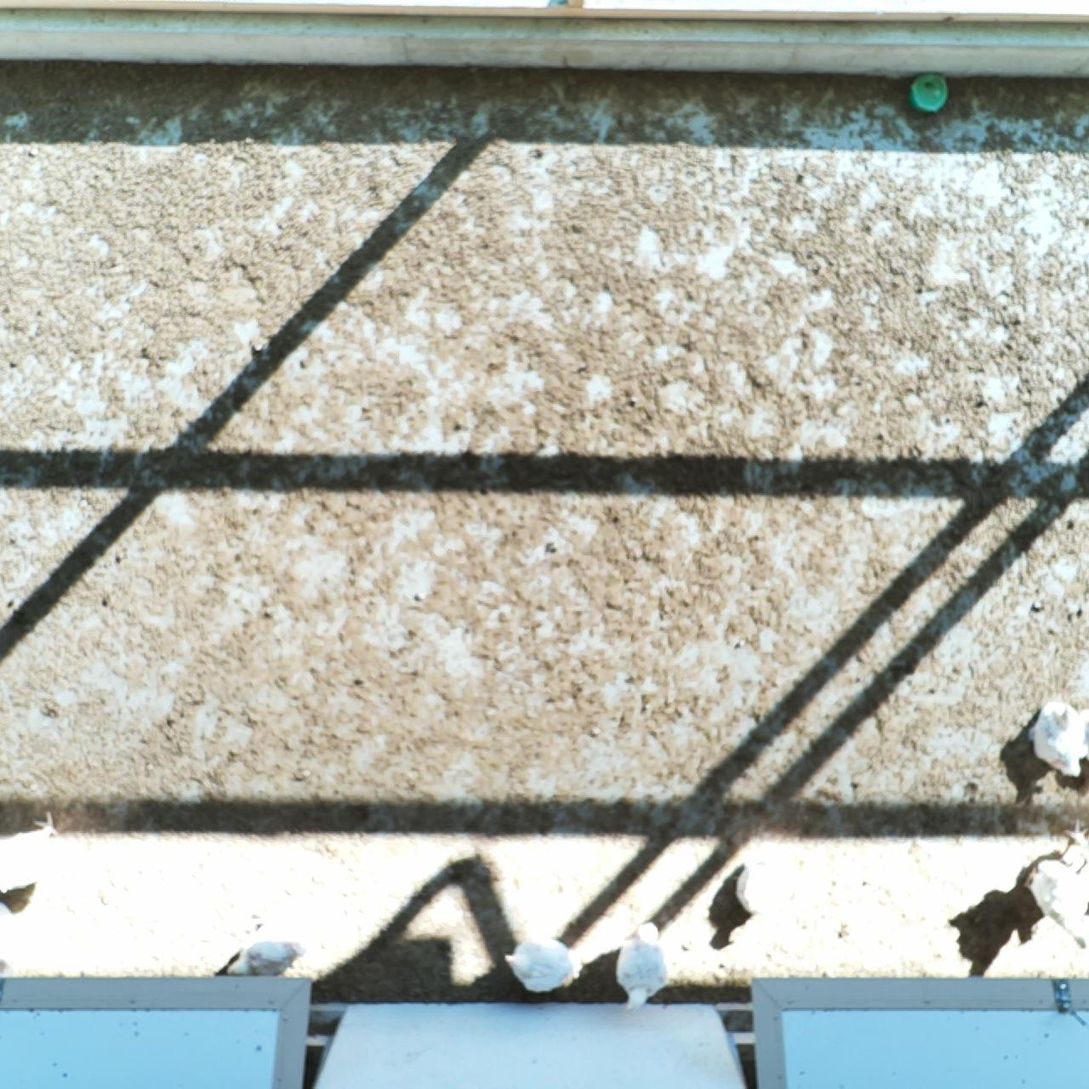chicken: (1018, 814, 1089, 951), (614, 914, 674, 1012), (1023, 695, 1089, 783), (500, 928, 586, 994), (0, 808, 63, 894), (735, 837, 798, 920), (222, 937, 307, 979)
